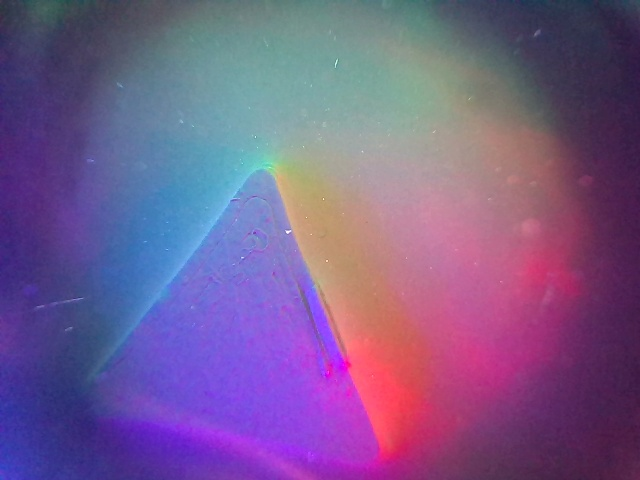contact: (98, 170, 378, 463)
